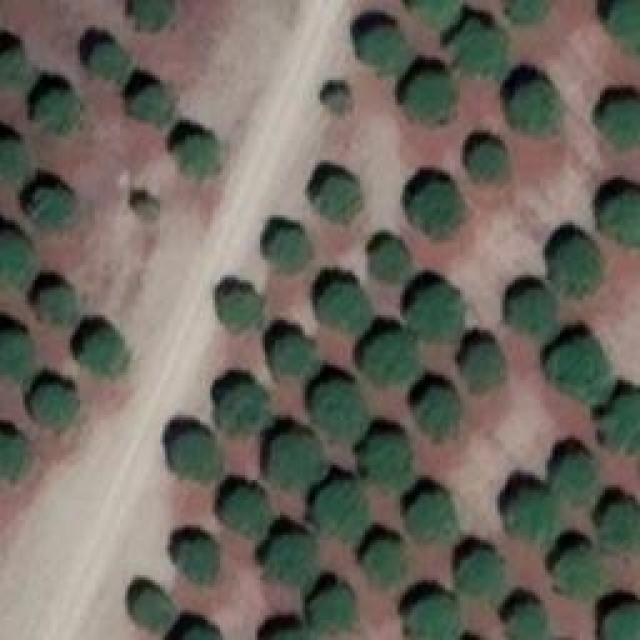Tree: (543, 335, 613, 400), (70, 315, 128, 378), (315, 475, 370, 540), (403, 285, 463, 343), (400, 490, 460, 548), (545, 238, 603, 298), (547, 542, 605, 600), (28, 368, 83, 428), (410, 182, 465, 240), (503, 488, 556, 548), (508, 77, 561, 135), (265, 428, 320, 483), (310, 378, 365, 431), (413, 388, 466, 441), (455, 550, 508, 603), (597, 392, 640, 457), (217, 382, 265, 440), (223, 483, 273, 538), (265, 533, 315, 588), (173, 132, 228, 180), (30, 272, 83, 320), (362, 435, 410, 488), (320, 283, 370, 333), (357, 28, 415, 71), (595, 95, 640, 150), (408, 595, 463, 640), (365, 338, 413, 388), (313, 583, 358, 636), (600, 187, 640, 245), (600, 497, 640, 555), (407, 72, 455, 120), (462, 140, 510, 188), (312, 175, 360, 223), (460, 342, 508, 390), (30, 183, 80, 228), (178, 533, 223, 583), (550, 455, 595, 505), (0, 313, 35, 376), (458, 25, 503, 73), (515, 290, 563, 335), (360, 537, 405, 585), (178, 430, 221, 480), (130, 585, 173, 633), (265, 225, 310, 270), (270, 332, 310, 380), (0, 422, 32, 479), (38, 85, 78, 130), (505, 600, 550, 640), (85, 38, 128, 78), (607, 0, 640, 50), (135, 80, 173, 123), (225, 288, 263, 328), (602, 600, 640, 640), (130, 0, 177, 32), (125, 192, 163, 230), (0, 225, 28, 275), (415, 0, 460, 30), (375, 240, 405, 280), (0, 45, 25, 88), (320, 78, 353, 108), (0, 138, 25, 173), (265, 625, 320, 640), (510, 0, 550, 20)
